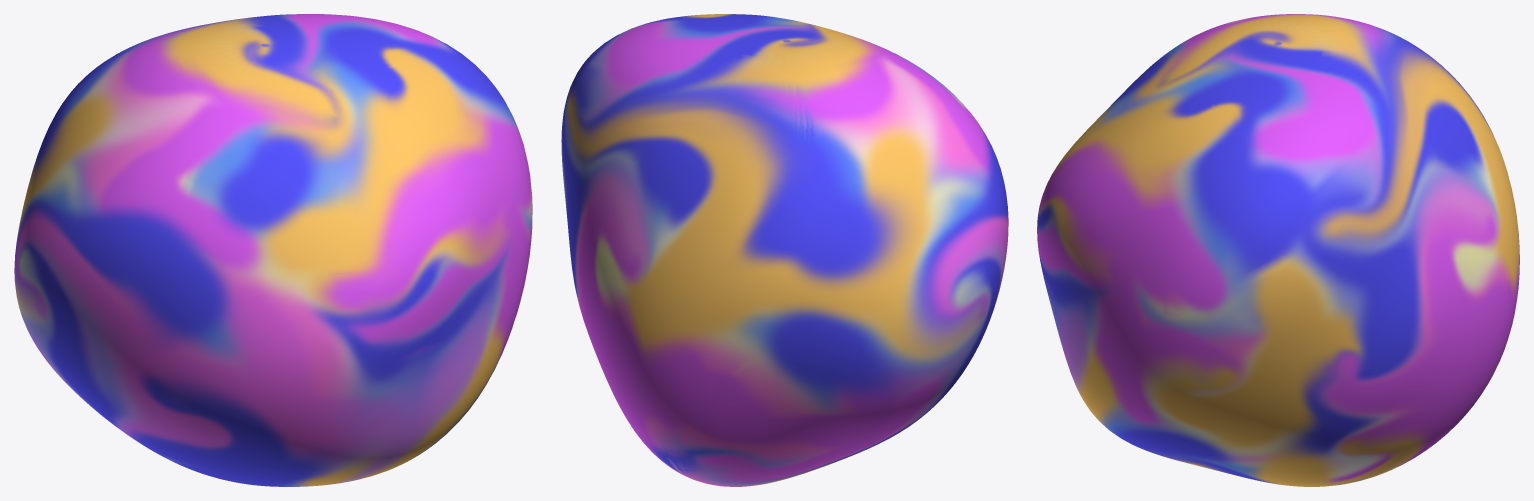
File: blob4.gltf
3 renders of one model, left to right at view 1: azimuth 30°, elevation 25°; view 2: azimuth 150°, elevation 25°; view 3: azimuth 270°, elevation 25°, orthographic. The views are drawn at different scales.
Parts seen in each view (by area): view 1: Sphere; view 2: Sphere; view 3: Sphere.
Part boxes in pixels (box(x1,y1,x2,y2)): Sphere: box(14, 14, 532, 486); Sphere: box(561, 14, 1008, 486); Sphere: box(1037, 14, 1519, 486).
Bounding box in the file's own units: 0.2303 × 0.2152 × 0.221.
1 material, 1 textured.
